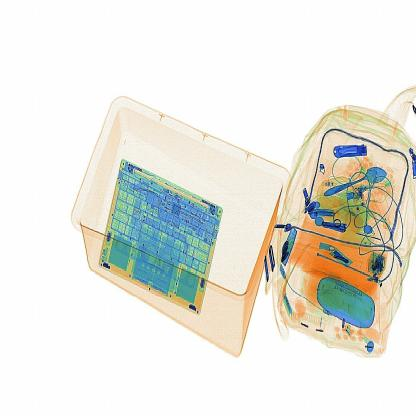knife: (326, 133, 371, 169)
